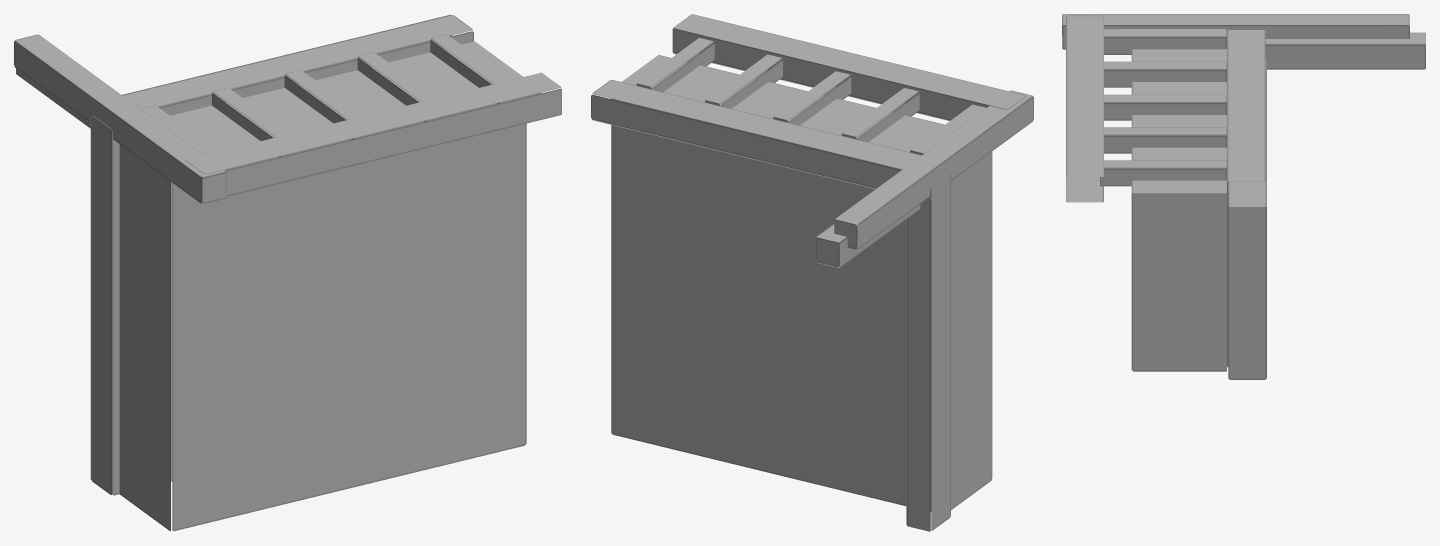
File: pz_bed_bedding_01_large_fancy_0_1.obj
The picture shows the model from 3 angles, left to right: view 1: azimuth 30°, elevation 25°; view 2: azimuth 150°, elevation 25°; view 3: azimuth 270°, elevation 25°; orthographic projection. The views are drawn at different scales.
Bounding box in the file's own units: 0.975 × 0.985 × 0.915.
1 material, 1 textured.
